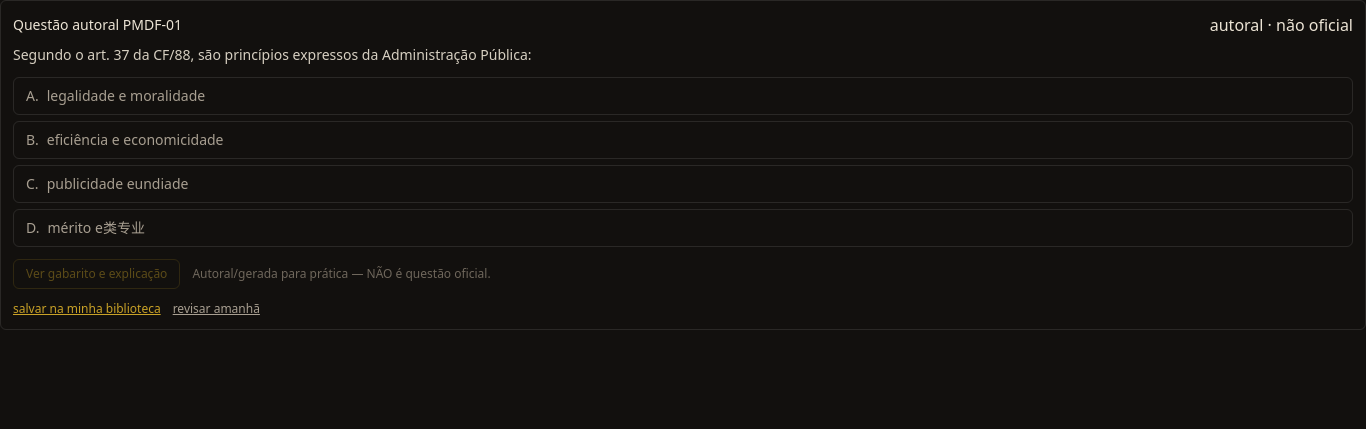
Test: CatalogQuestion › mostra 'você errou' quando a alternativa escolhida é incorreta
Click the button "B.eficiência e economicidade" at (135, 140), box 13,121 -> 1353,159
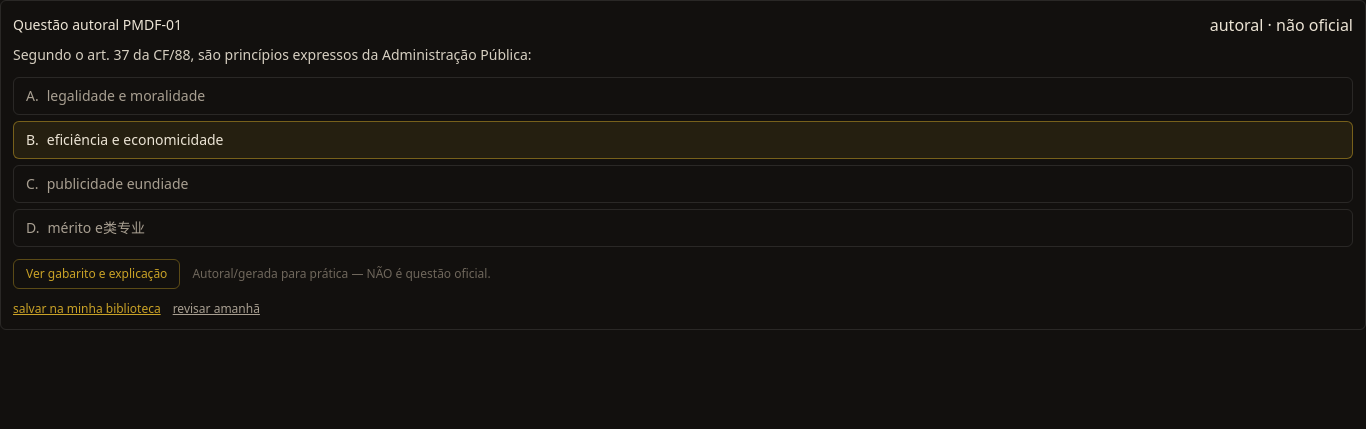
Click the button "Ver gabarito e explicação" at (97, 274), box 13,259 -> 180,289
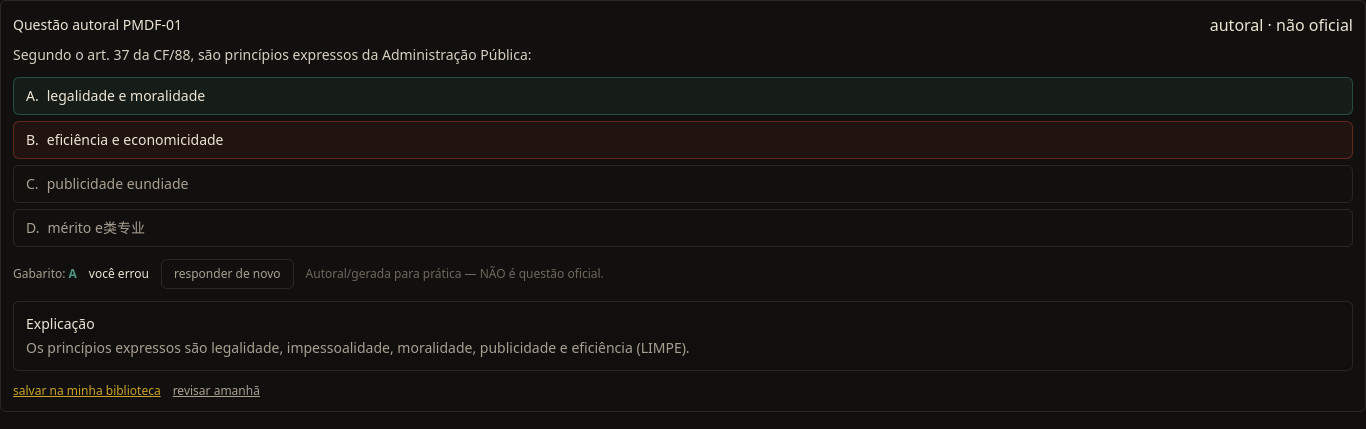
Check: the text "você errou" is shown, box 89,266 -> 149,282
